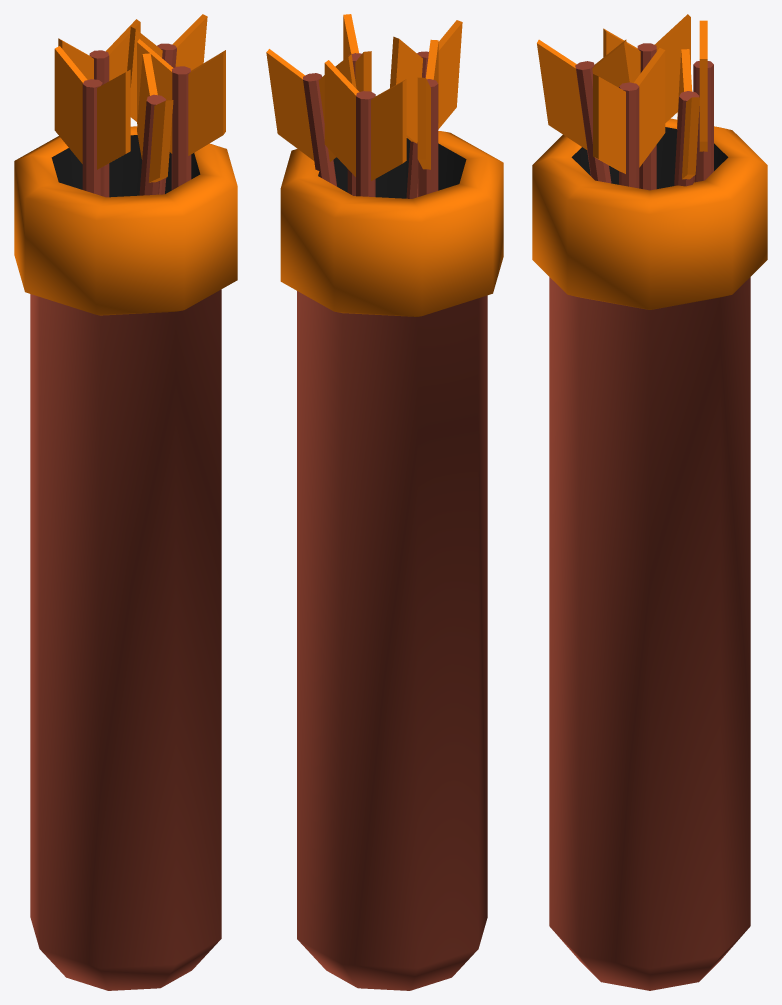
The model's file is PickupArrowFire.dae.
3 views of the same model, side by side, from view 1: azimuth 30°, elevation 25°; view 2: azimuth 150°, elevation 25°; view 3: azimuth 270°, elevation 25° (orthographic).
Parts seen in each view (by area): view 1: ArrowsPickupFire; view 2: ArrowsPickupFire; view 3: ArrowsPickupFire.
Part boxes in pixels (bbox=[...]): ArrowsPickupFire: bbox=[14, 14, 237, 990]; ArrowsPickupFire: bbox=[266, 14, 503, 990]; ArrowsPickupFire: bbox=[532, 14, 767, 990].
Size of the model in its own units: 0.2351 by 0.2336 by 1.01.
